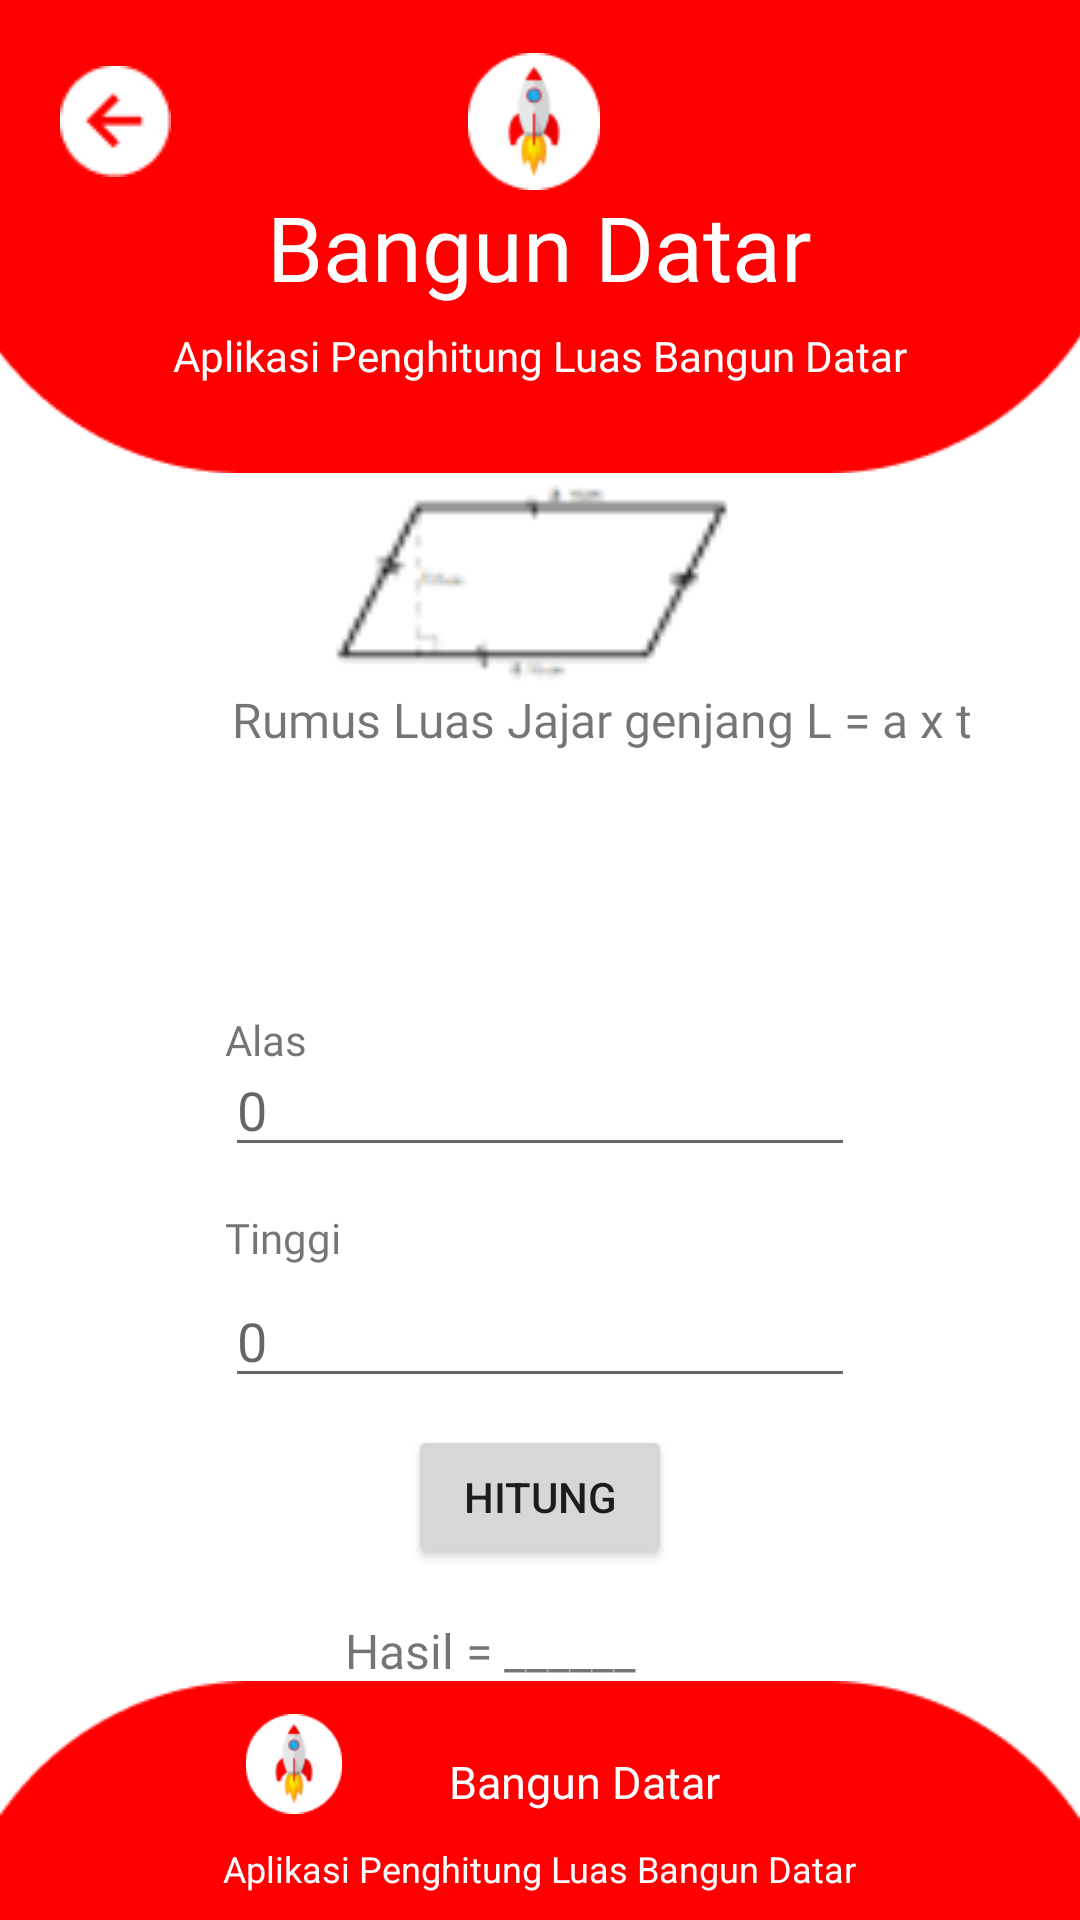

Where icons sit on this 1080x1920 app screen, as (x1, y1, x2, y2):
back: (60, 66, 171, 177)
roket: (468, 53, 600, 190), (246, 1714, 342, 1814)
